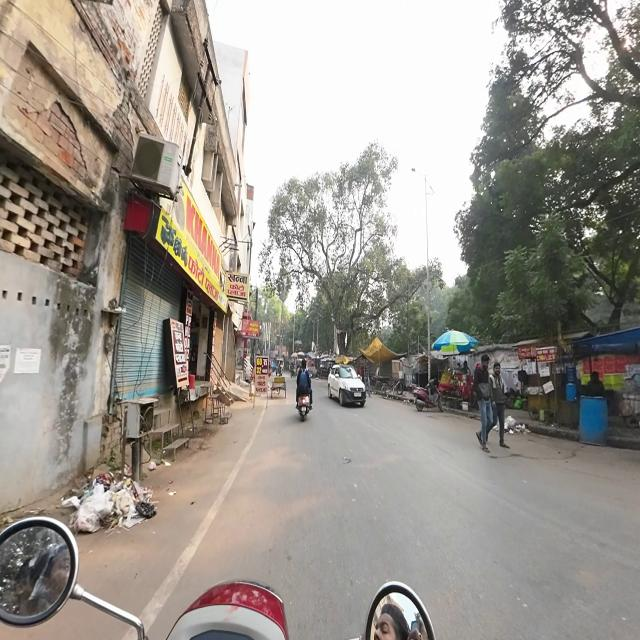Garbage: (77, 478, 138, 532), (136, 501, 156, 519)
